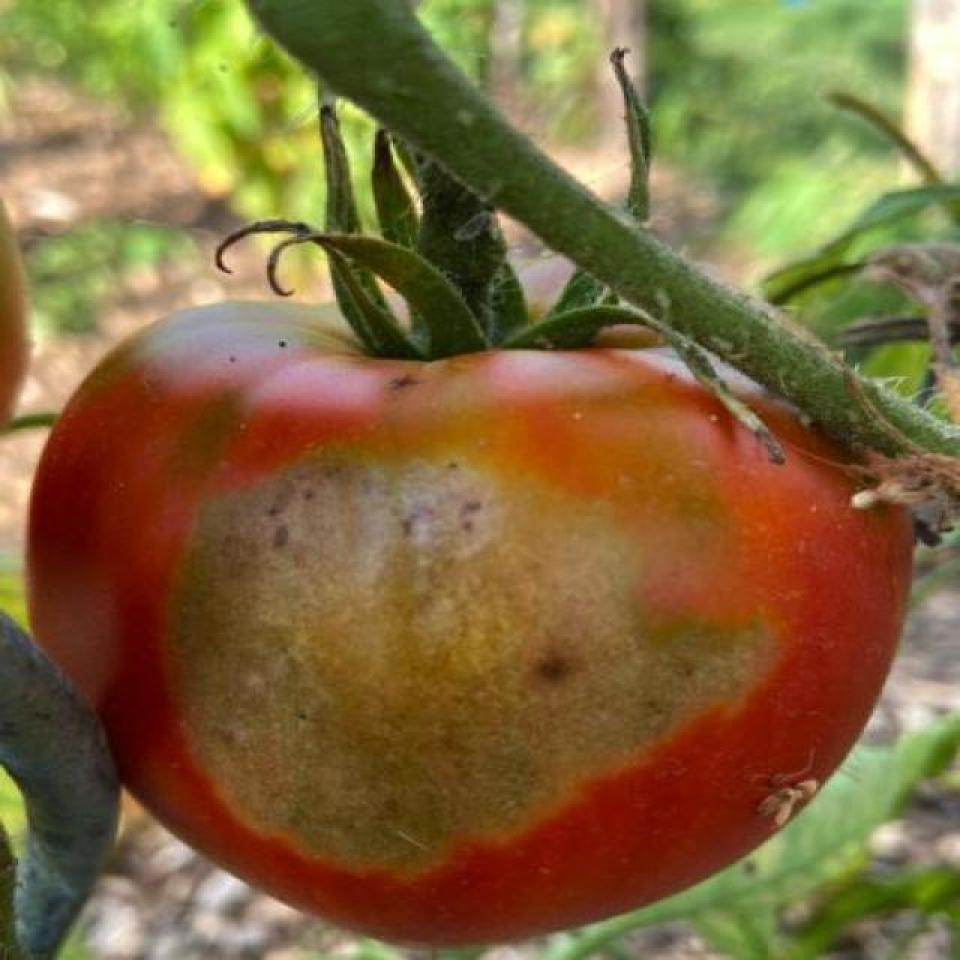Sunscald: (137, 399, 778, 900)
